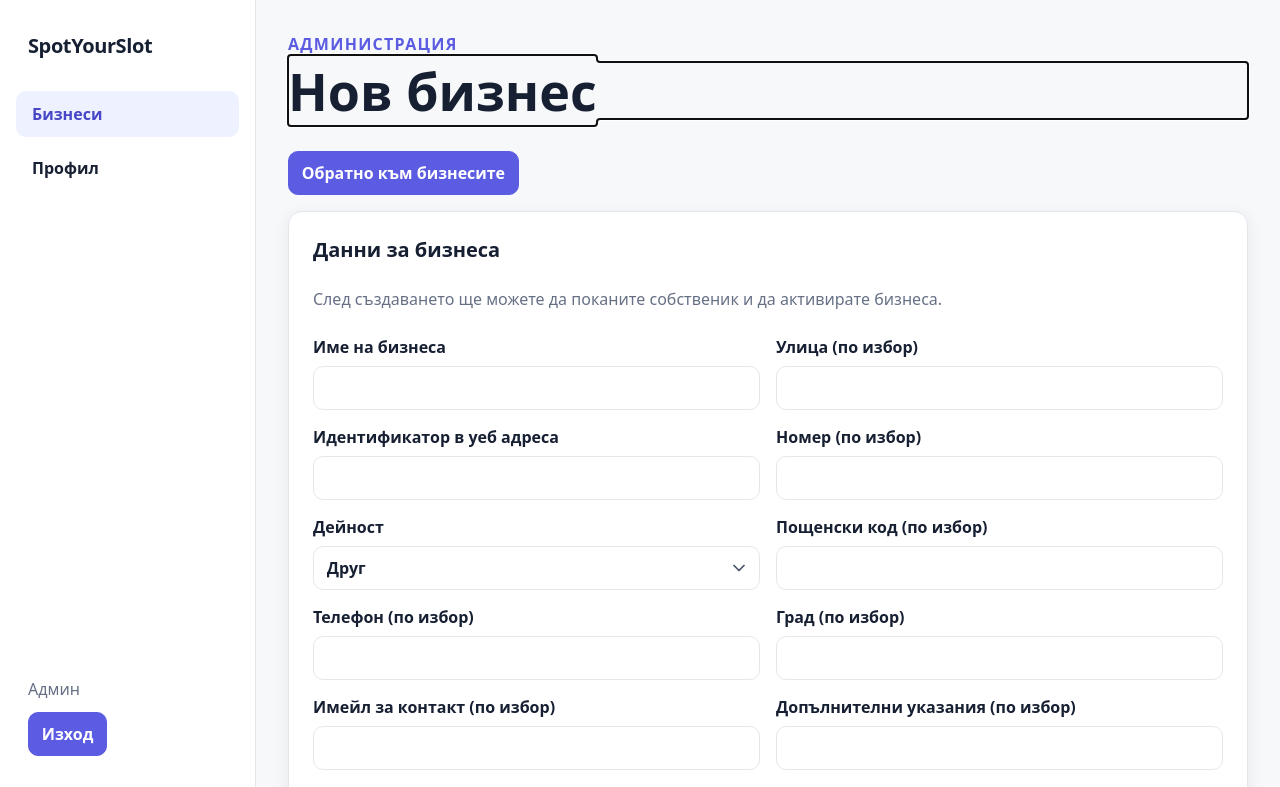
it: platform Business create form and the shared guard › shows the shared dialog, "Остани" preserves the value and route, and Escape does the same
Step 1. Type "Незапазено" into the field labelled "Име на бизнеса" → (536, 388), box [313,366,760,410]
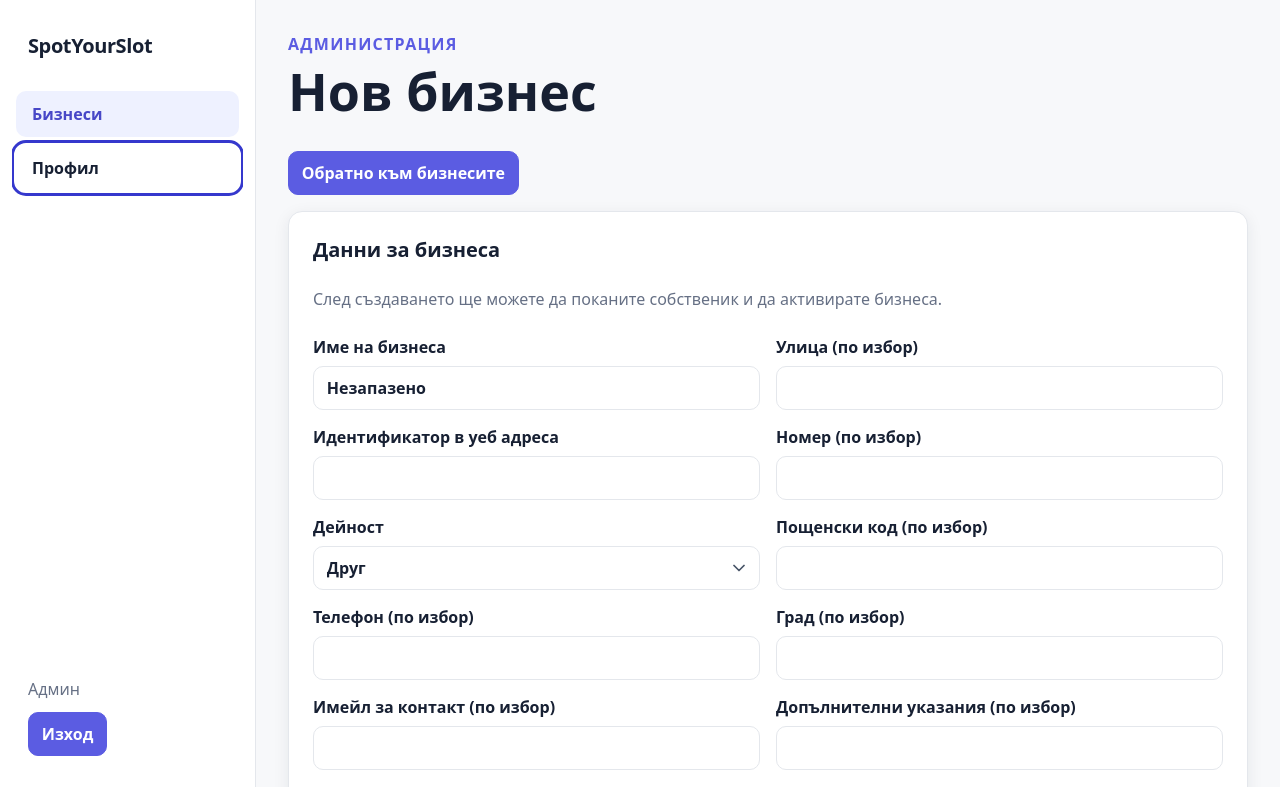
Step 2. Click the link "Профил" → (65, 168), box [32,157,99,179]
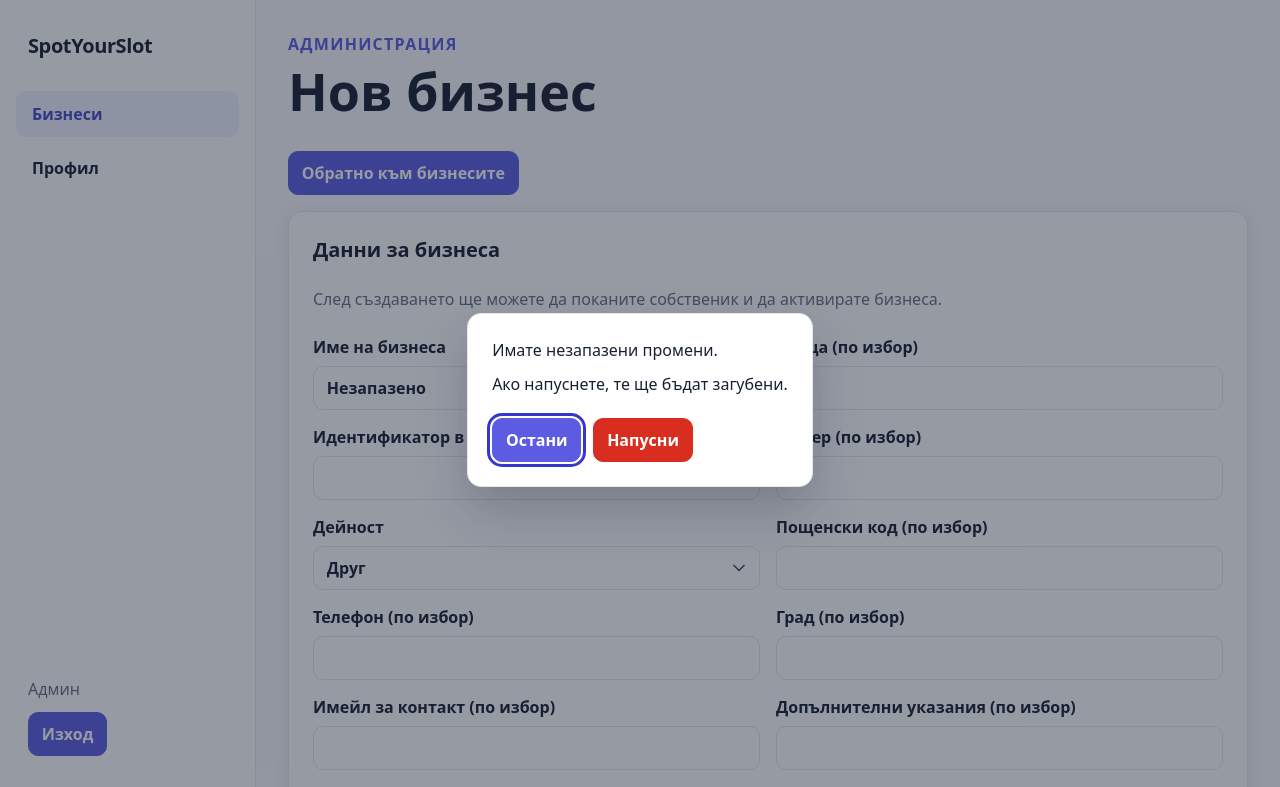
Expected: the button "Напусни" is shown, [593,418,693,462]
Step 3. Click the button "Остани" → (537, 440), box [492,418,581,462]
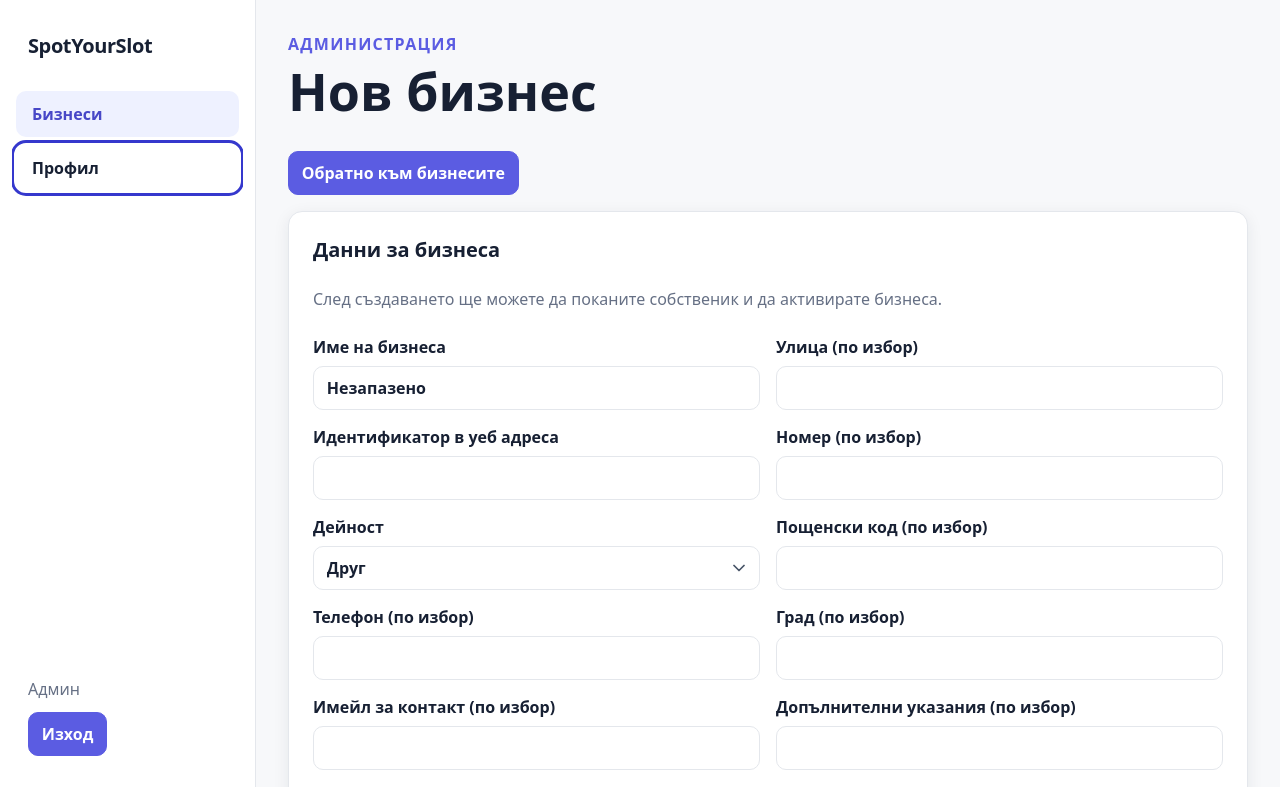
Expected: the dialog is gone
Step 4. Click the link "Профил" → (65, 168), box [32,157,99,179]
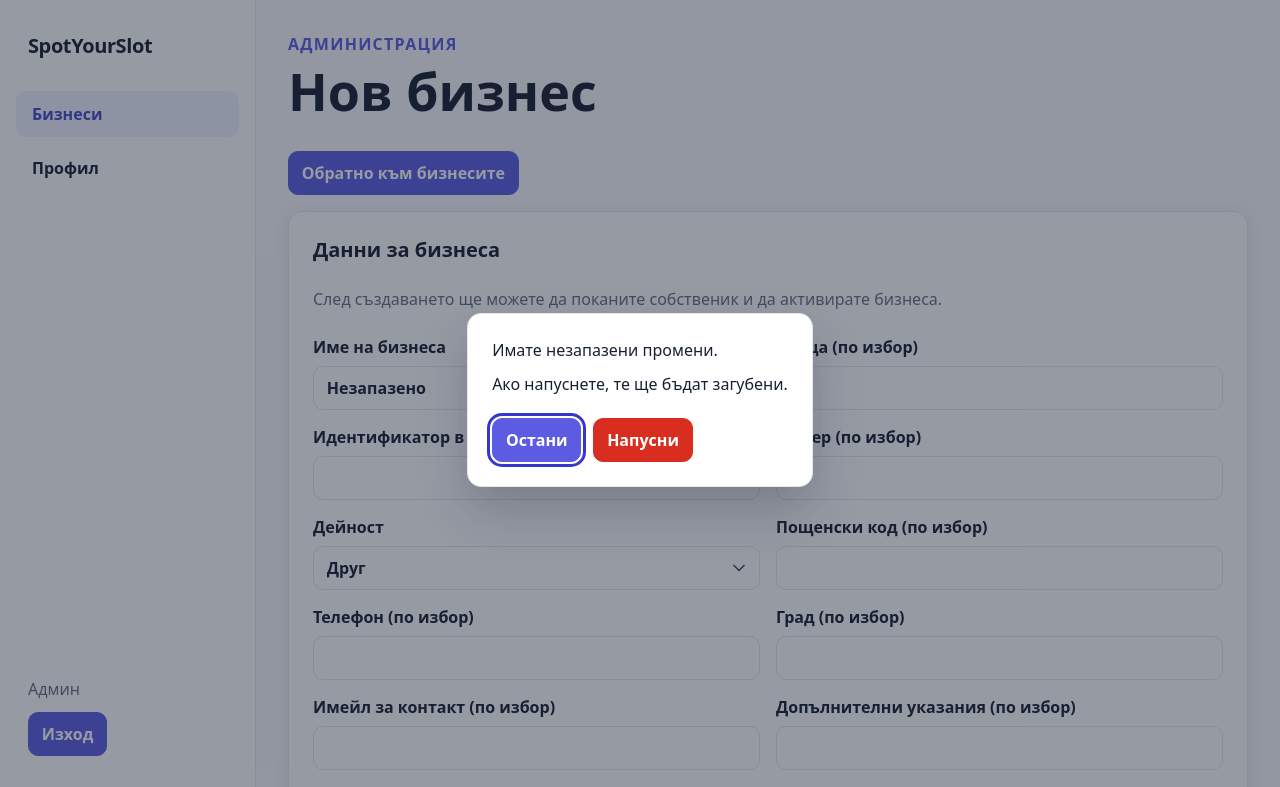
Step 5. Press Escape in the dialog "незапазени промени", box [467,313,813,487]
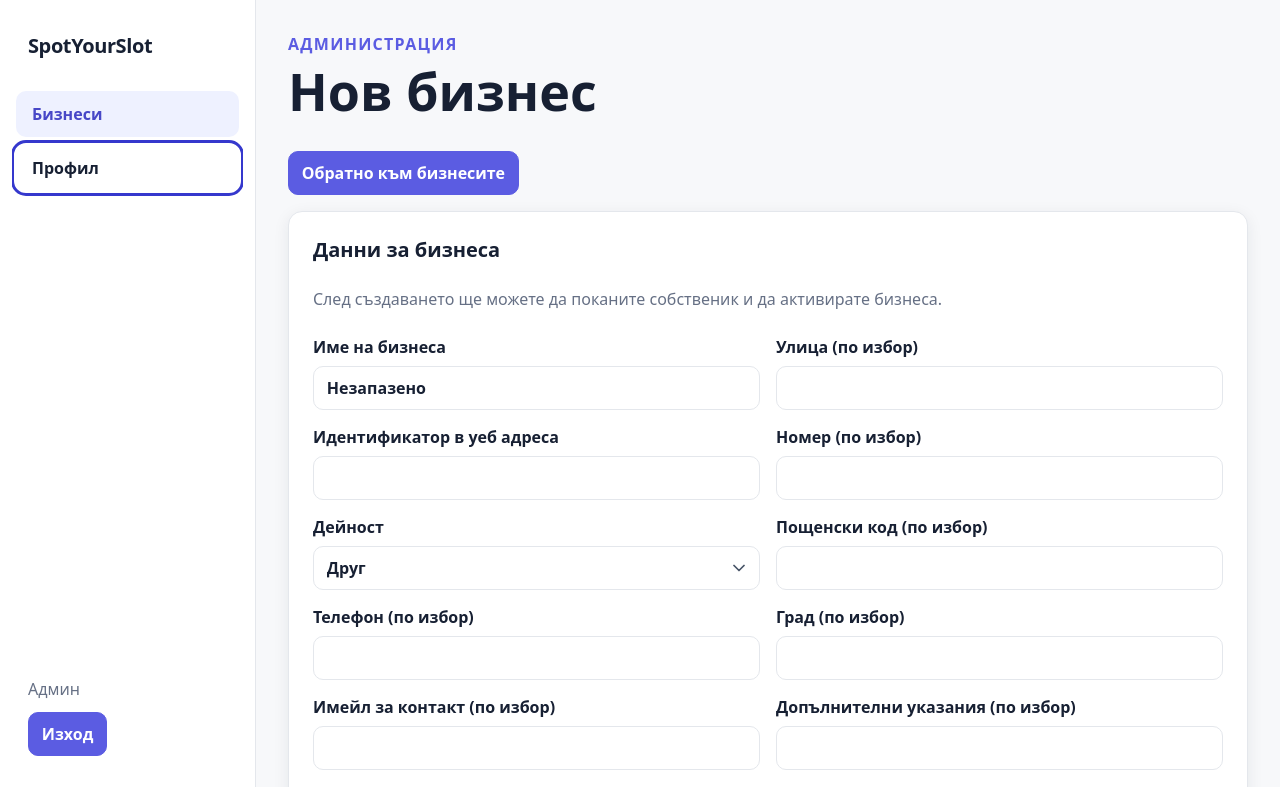
Expected: the dialog is gone
